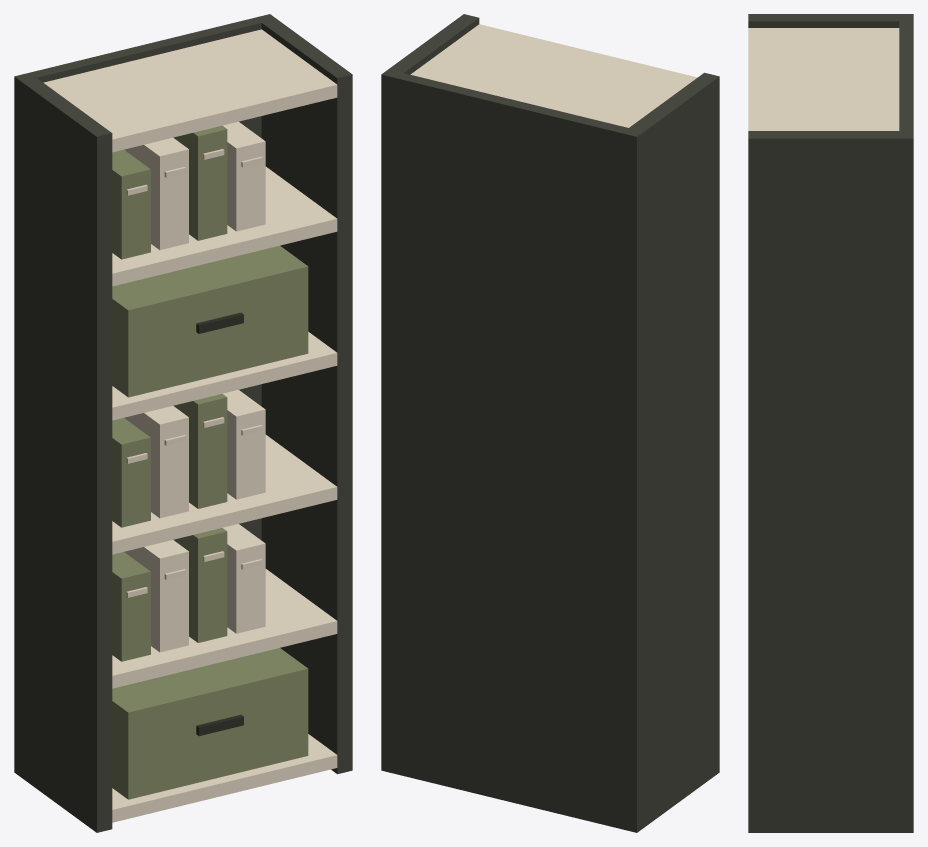
Rendered from show_study_tower.glb.
The picture shows the model from 3 angles, left to right: view 1: azimuth 30°, elevation 25°; view 2: azimuth 150°, elevation 25°; view 3: azimuth 270°, elevation 25°; orthographic projection.
Size of the model in its own units: 1.25 by 3.25 by 0.7.
